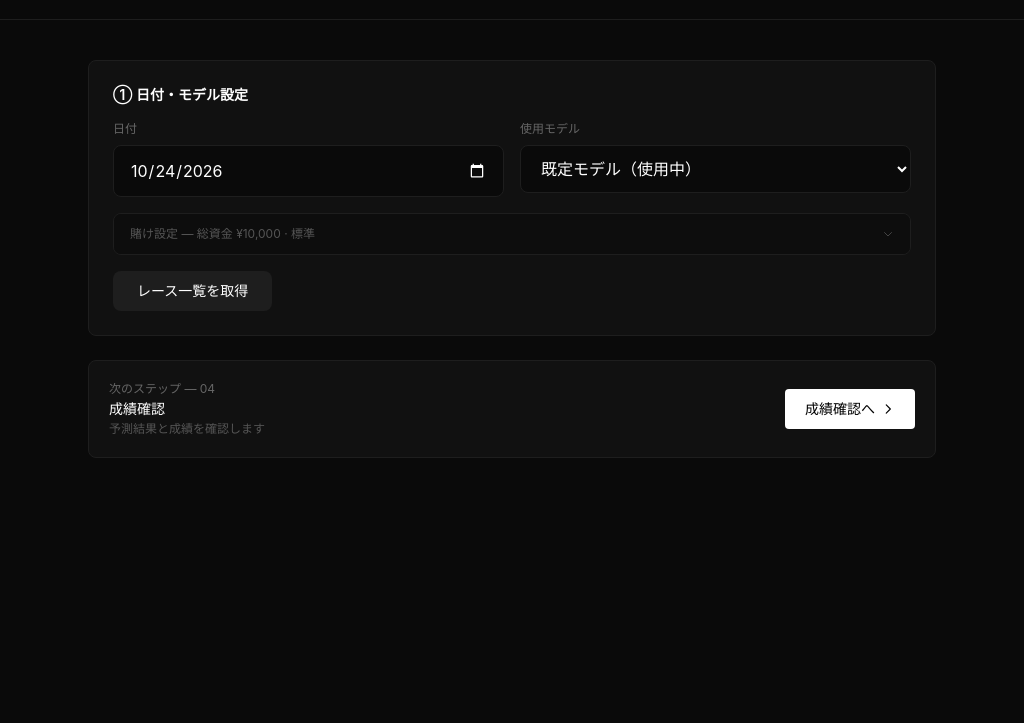
Test: parallel batch prediction UI › aborts the initial health check and never starts races from a late capability response
Click the button "レース一覧を取得" at (193, 291), box [113, 271, 272, 311]
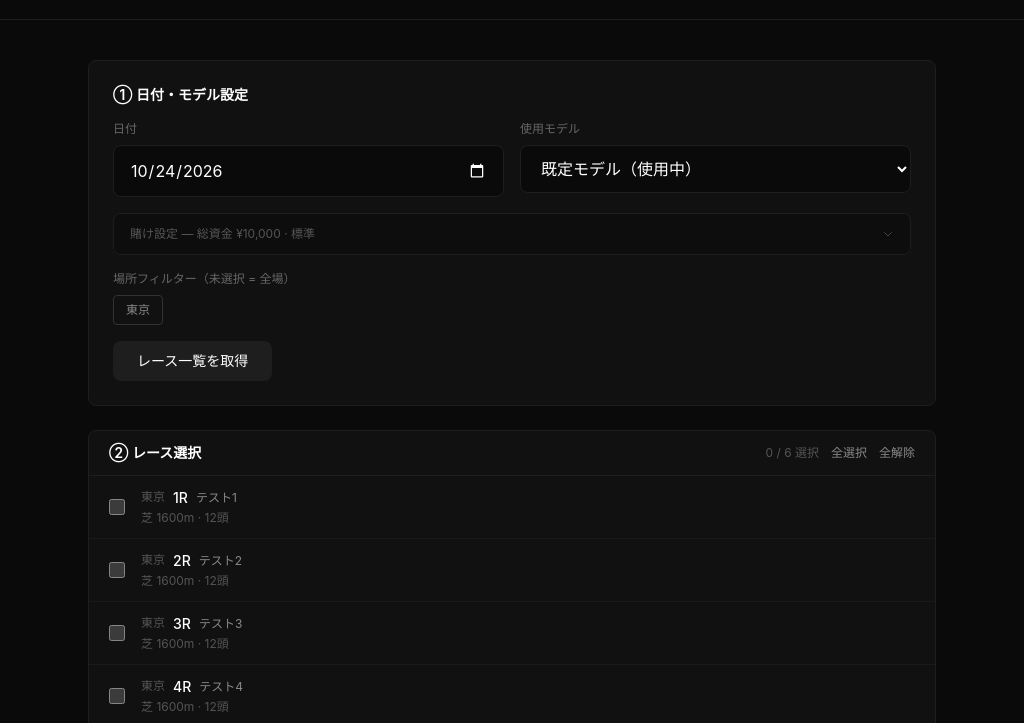
Click the button "全選択" at (849, 453), box [831, 445, 867, 461]
(page scrolled)
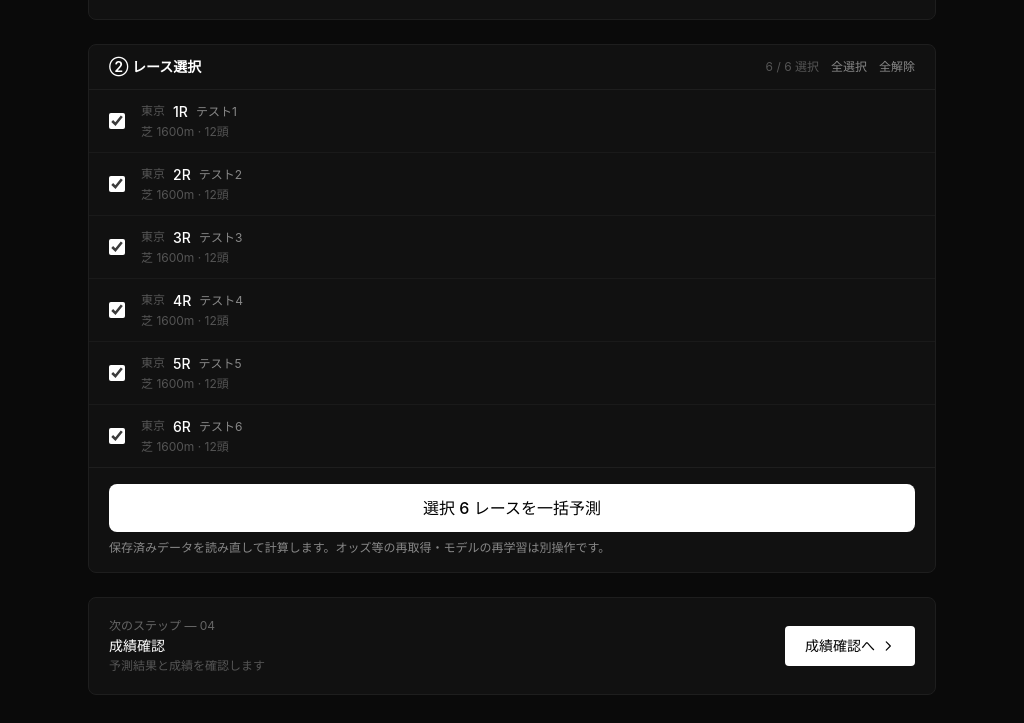
Click the button "選択 6 レースを一括予測" at (512, 508), box [109, 484, 915, 532]
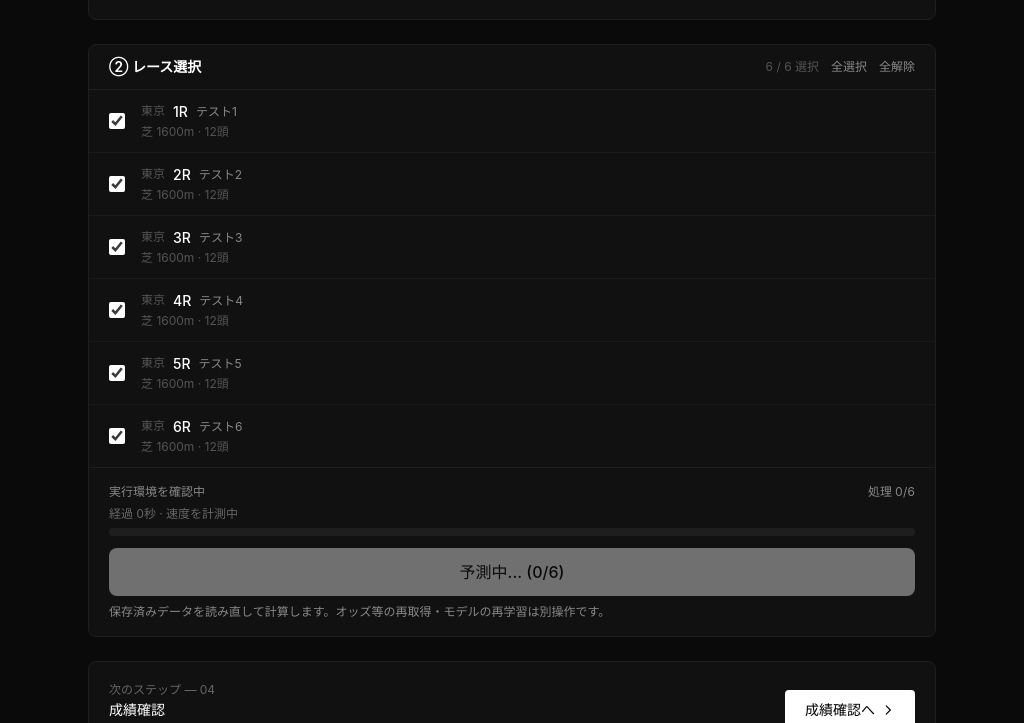
Check: the message with test id "prediction-live-progress" shows "実行環境を確認中", box [109, 484, 205, 499]
